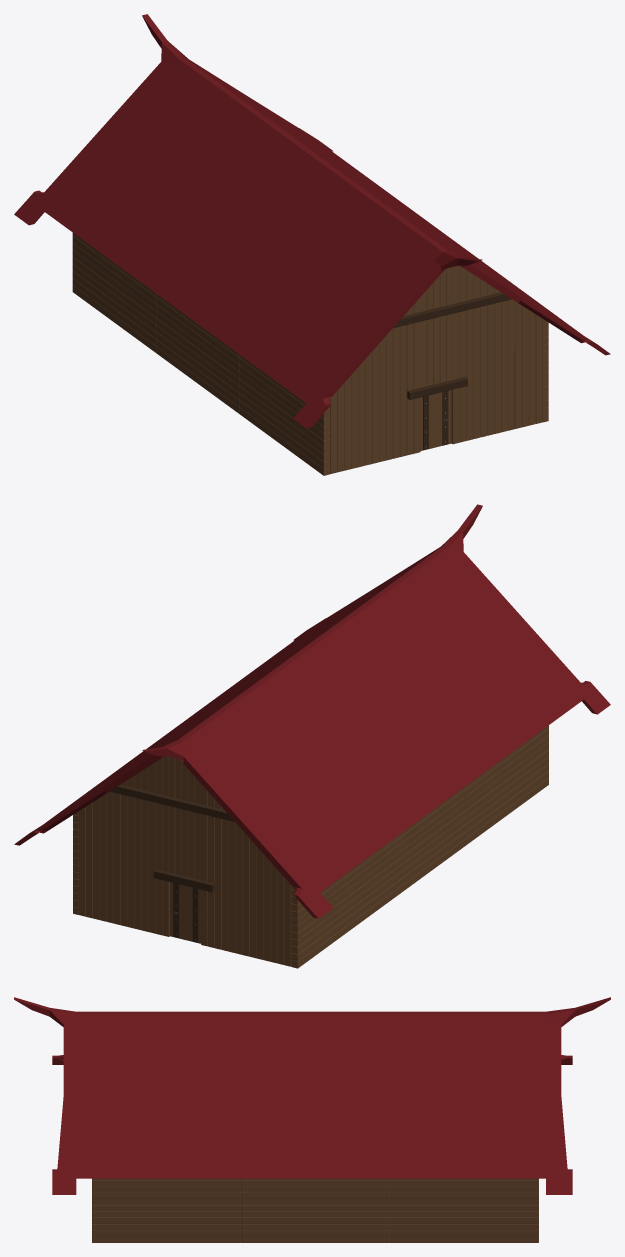
The model's file is Shack 1.fbx.
3 views of the same model, one above another, from view 1: azimuth 30°, elevation 25°; view 2: azimuth 150°, elevation 25°; view 3: azimuth 270°, elevation 25° (orthographic). The views are drawn at different scales.
Parts seen in each view (by area): view 1: Cube.007, Cube.006; view 2: Cube.007, Cube.006; view 3: Cube.007, Cube.006.
Boxes of the visible parts, x1,y1,x2,y2 form: Cube.007: (14, 14, 610, 428); Cube.006: (72, 233, 548, 475); Cube.007: (14, 504, 610, 918); Cube.006: (73, 725, 548, 968); Cube.007: (14, 997, 610, 1194); Cube.006: (92, 1178, 538, 1242).
Bounding box in the file's own units: 1168 × 807 × 2229.
